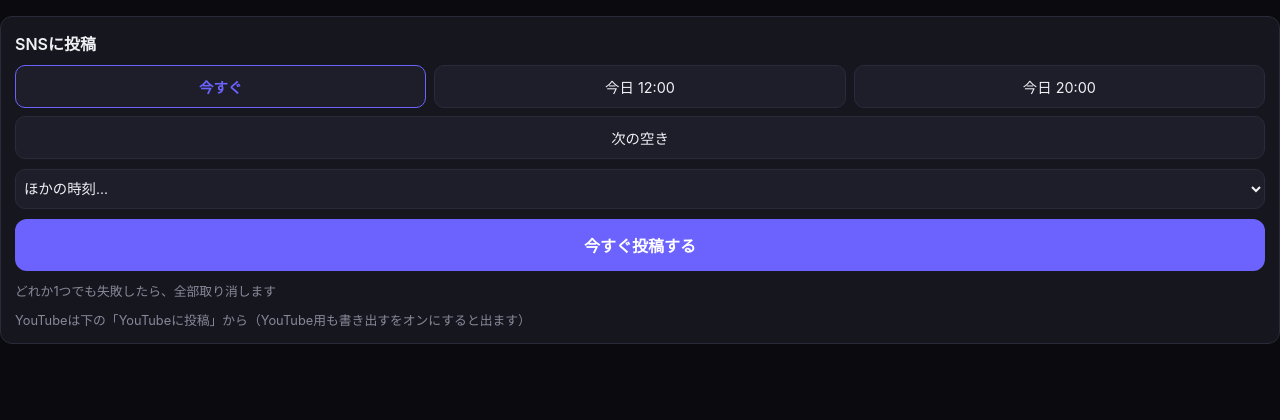
Test: PostToSns › 次の空き › posts nothing when every slot is taken, and says how far
Click the button "次の空き" at coordinates (640, 138), box [15,116,1265,159]
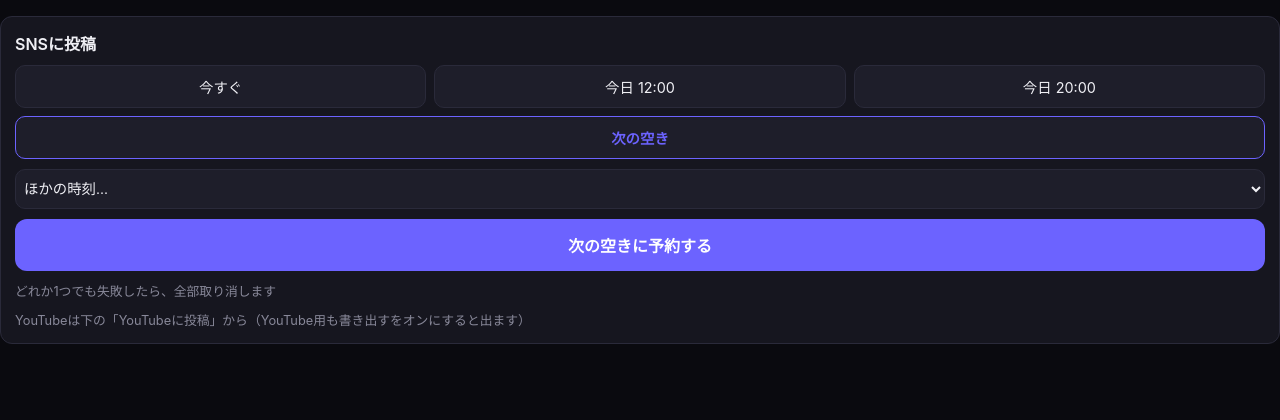
Click the button "次の空きに予約する" at coordinates (640, 245), box [15,219,1265,271]
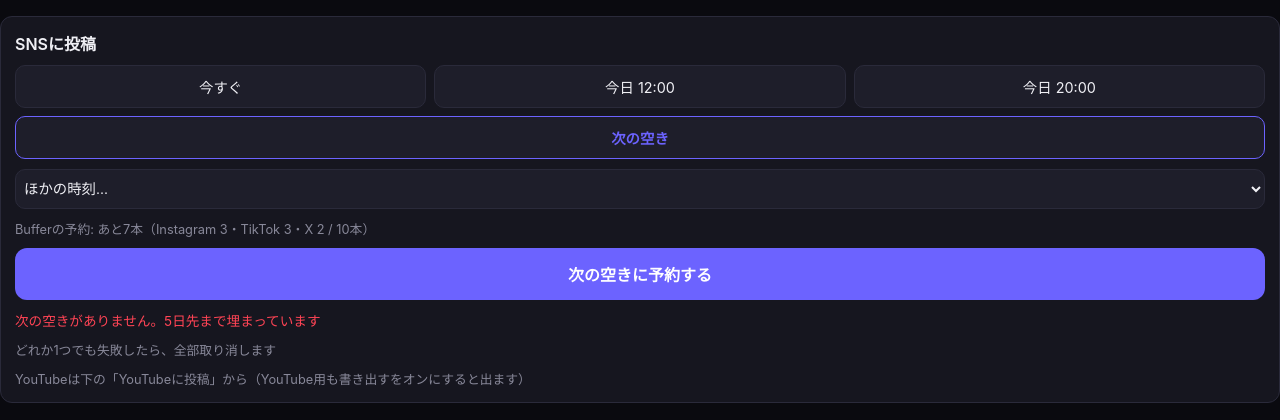
Expected: the text "次の空きがありません。5日先まで埋まっています" is shown, [15,313,320,329]
